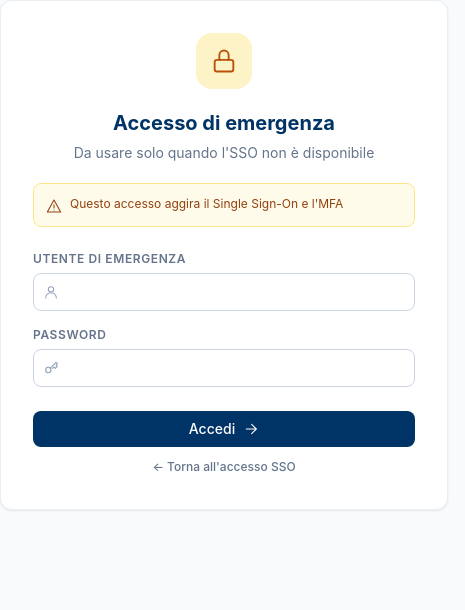
BreakGlassLogin › shows the generic error and does not authenticate on failure
Type "bg.operator" into the field with test id "breakglass-username".
click(224, 292); type("bg.operator")  # box [33,273,415,311]
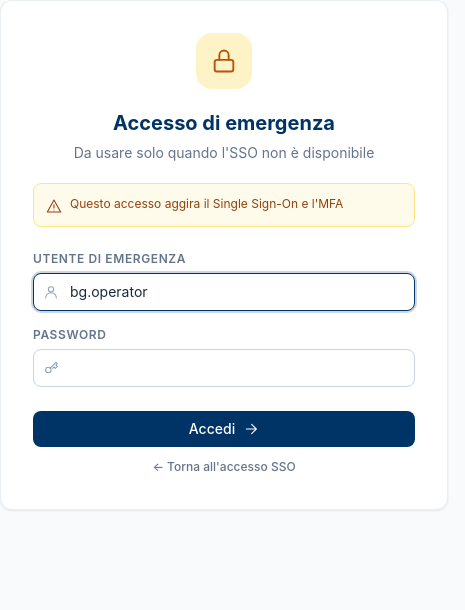
Type "a-long-test-password" into the password field with test id "breakglass-password".
click(224, 368); type("a-long-test-password")  # box [33,349,415,387]
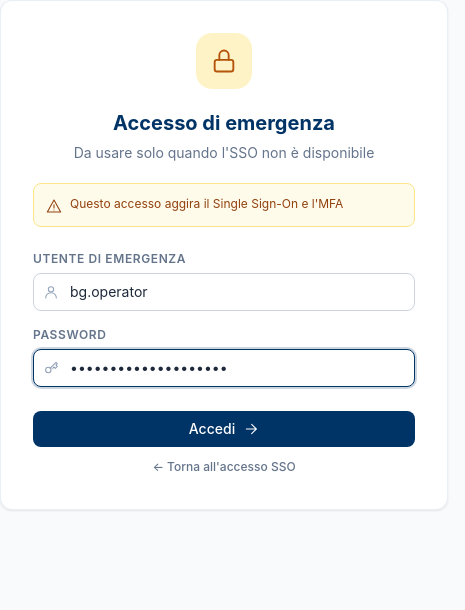
Click the button with test id "breakglass-submit".
click(224, 429)  # box [33,411,415,447]
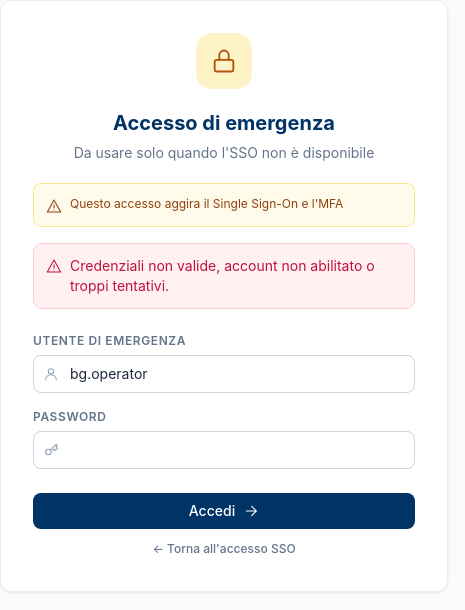
Now the message "Credenziali non valide, account non abilitato o troppi tentativi." is shown, box [33,243,415,309]
